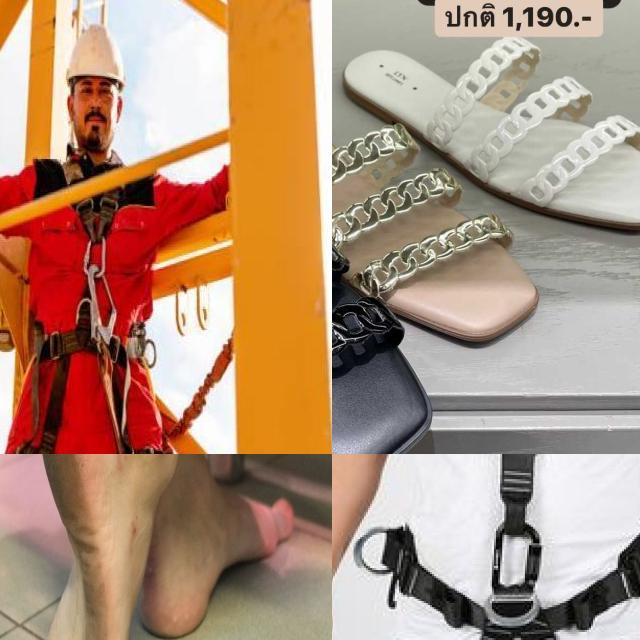Barefoots: (143, 486, 294, 638), (39, 454, 154, 640)
Harness: (390, 454, 640, 640), (28, 192, 131, 454)
Sandals: (332, 0, 640, 248), (332, 67, 587, 354), (332, 106, 461, 454)
